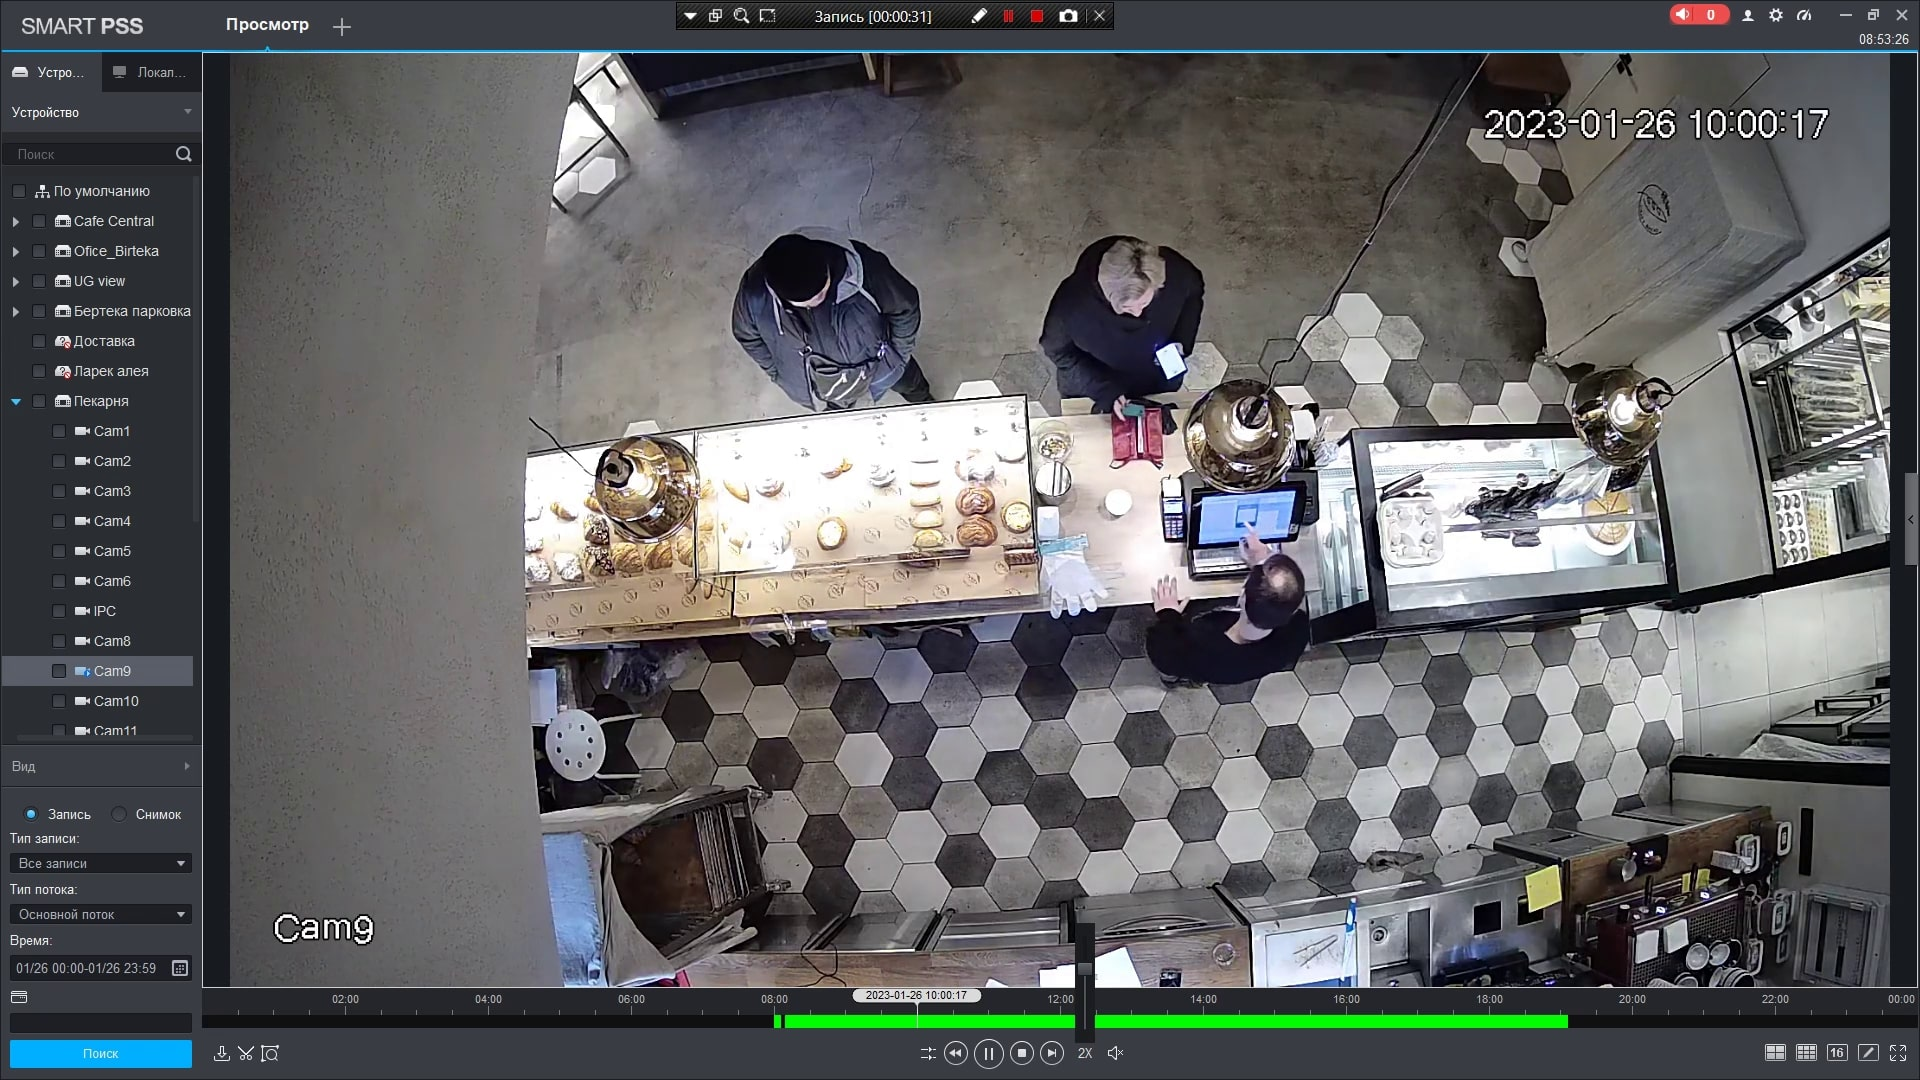barcounter: (539, 439, 1689, 659)
coffee: (1092, 478, 1141, 523)
person: (716, 239, 957, 418), (1149, 570, 1317, 702)
